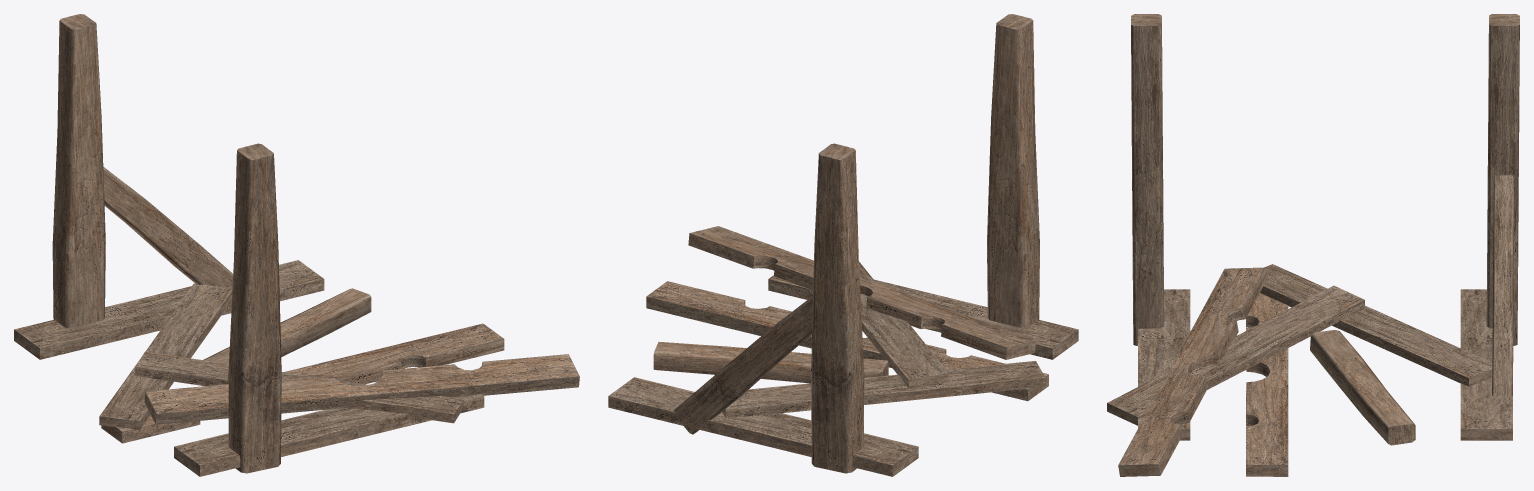
Rendered from CA_Pillory_Construction_Stage1.fbx.
3 views of the same model, side by side, from view 1: azimuth 30°, elevation 25°; view 2: azimuth 150°, elevation 25°; view 3: azimuth 270°, elevation 25° (orthographic).
Visible parts, largest first — view 1: CA_Pillory_Construction_Stage1; view 2: CA_Pillory_Construction_Stage1; view 3: CA_Pillory_Construction_Stage1.
Part boxes in pixels (x1=…): CA_Pillory_Construction_Stage1: x1=14, y1=14, x2=579, y2=476; CA_Pillory_Construction_Stage1: x1=608, y1=14, x2=1078, y2=476; CA_Pillory_Construction_Stage1: x1=1107, y1=14, x2=1519, y2=476.
Size of the model in its own units: 188 by 138 by 162.
